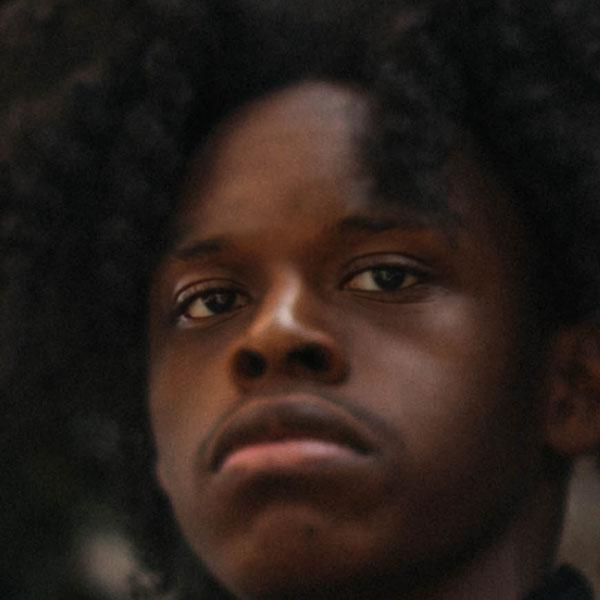Eyes: (328, 237, 456, 311), (160, 265, 264, 336)
